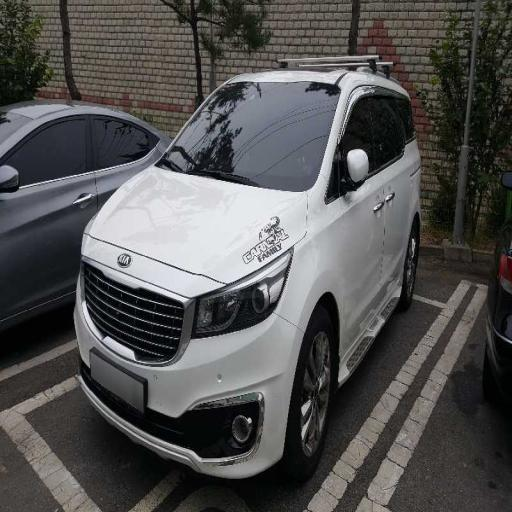dent: (136, 168, 314, 312)
